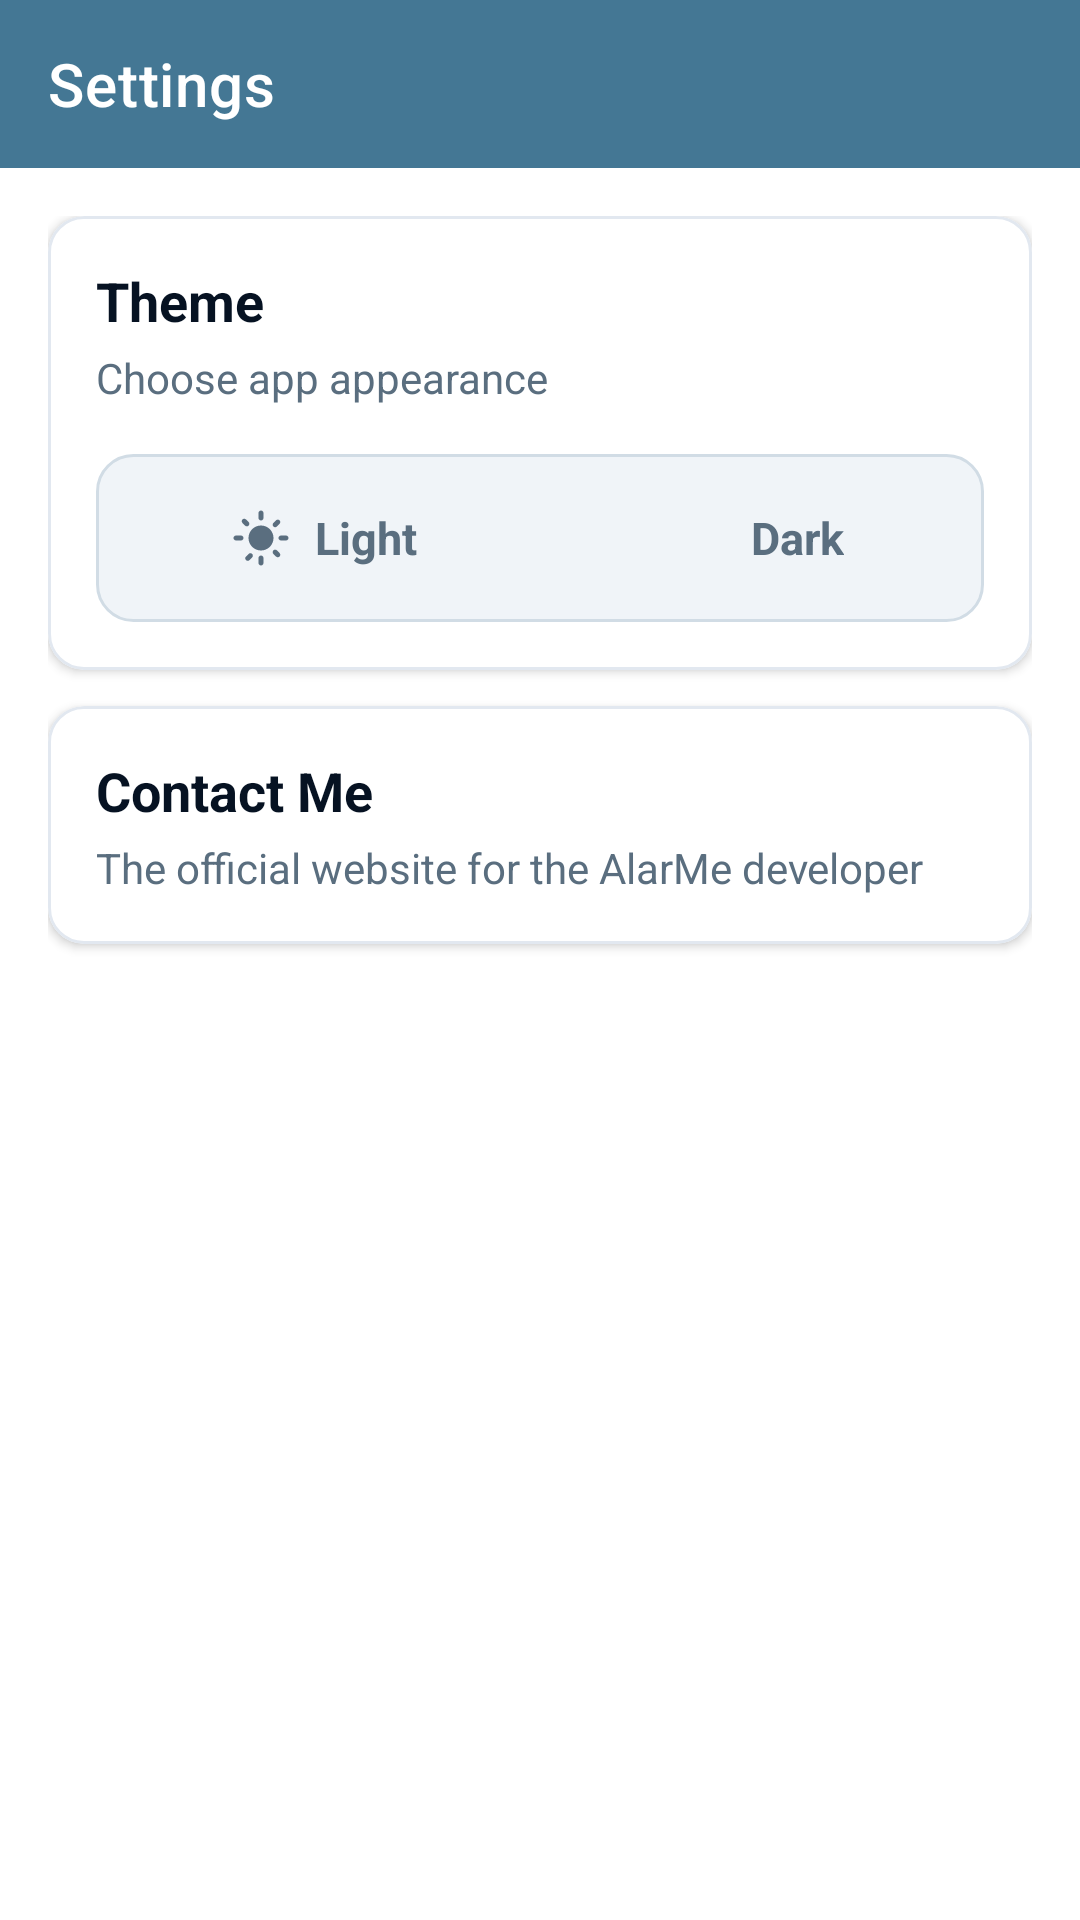

Icons on this 1080px×1920px Android screen, each with its box as (x1, y1, x2, y2):
mode: (233, 510, 289, 566)
